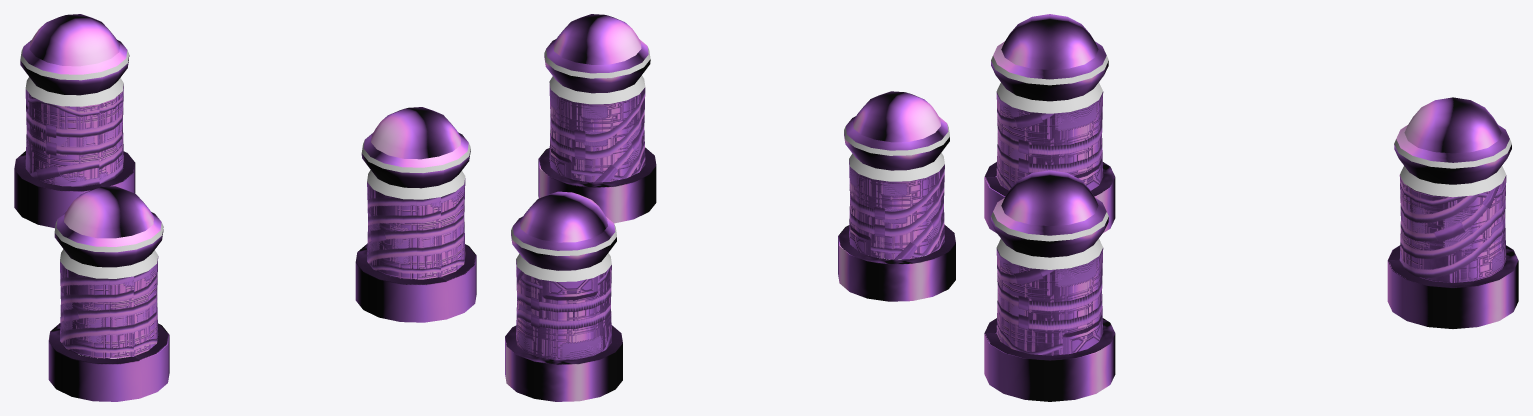
File: fuel4NEW.fbx
3 renders of one model, left to right at view 1: azimuth 30°, elevation 25°; view 2: azimuth 150°, elevation 25°; view 3: azimuth 270°, elevation 25°, orthographic. The views are drawn at different scales.
Parts seen in each view (by area): view 1: fuel3.4NEW, fuel2.4NEW, fuel4NEW, fuel4NeonNEW; view 2: fuel3.4NEW, fuel4NEW, fuel2.4NEW, fuel4NeonNEW; view 3: fuel4NEW, fuel2.4NEW, fuel3.4NEW, fuel4NeonNEW.
Boxes of the visible parts, <box> form: fuel3.4NEW: <box>48,186,169,401</box>; fuel2.4NEW: <box>355,107,476,322</box>; fuel4NEW: <box>14,14,135,228</box>; fuel4NeonNEW: <box>20,47,470,278</box>; fuel3.4NEW: <box>838,91,955,301</box>; fuel4NEW: <box>505,191,622,401</box>; fuel2.4NEW: <box>538,14,656,223</box>; fuel4NeonNEW: <box>511,47,949,281</box>; fuel4NEW: <box>1387,97,1518,328</box>; fuel2.4NEW: <box>984,170,1115,401</box>; fuel3.4NEW: <box>984,14,1115,233</box>; fuel4NeonNEW: <box>991,56,1511,269</box>.
Size of the model in its own units: 3.3 by 3.45 by 1.47.
